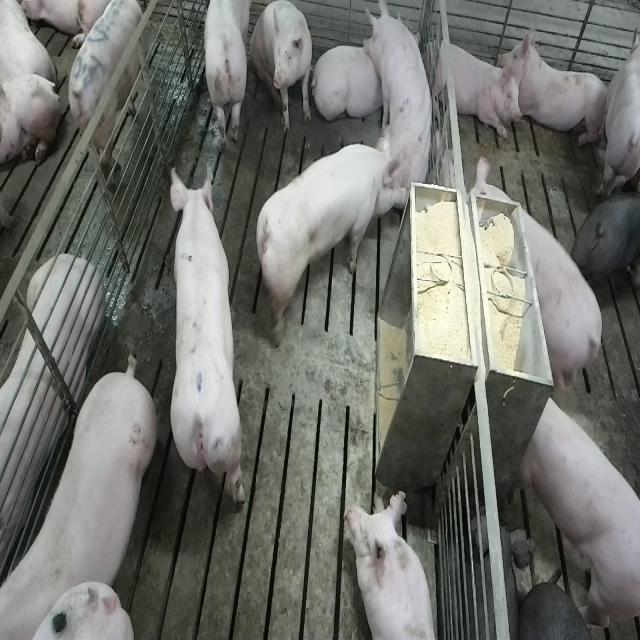Sitting: (368, 4, 438, 217), (250, 0, 314, 138)
Standing: (518, 390, 638, 632), (163, 158, 242, 508), (512, 209, 604, 395), (70, 0, 154, 200), (201, 2, 250, 152), (572, 190, 640, 296)
Sternal_lying: (0, 250, 102, 582), (346, 485, 439, 640), (501, 18, 611, 148), (428, 29, 523, 140), (314, 40, 386, 126)
